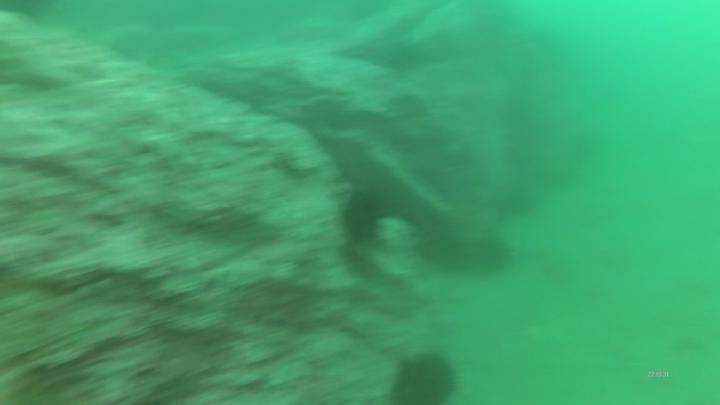echinus: (389, 351, 459, 405), (343, 191, 385, 244), (477, 233, 515, 278)
